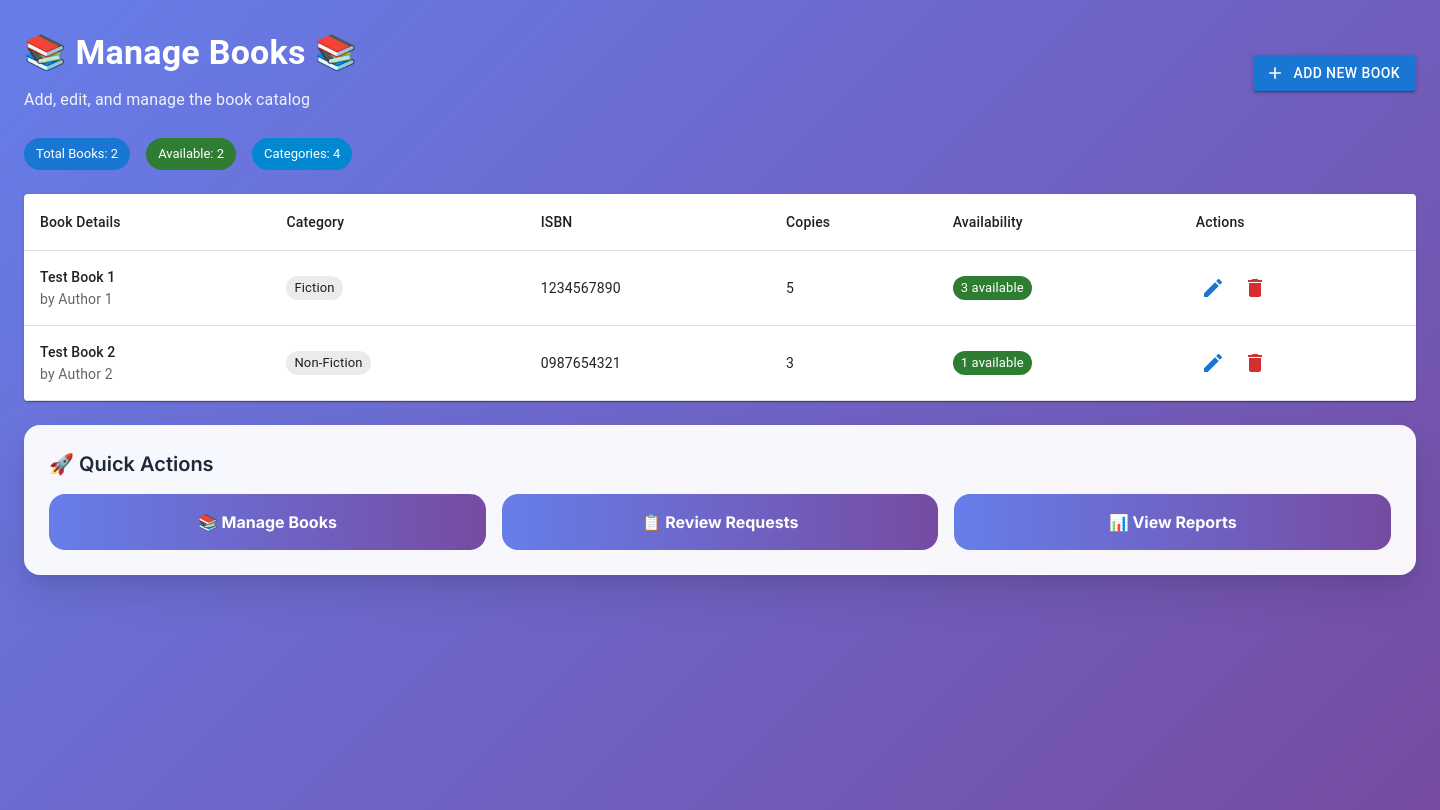
Test: ManageBooks Component › opens add book dialog
// Click the Add New Book button (not the dialog title)
What coordinates should you click on to do the following:
click the button "Add New Book"
I would click on:
 (1335, 73)
Its box is top-left (1253, 55), bottom-right (1416, 91).
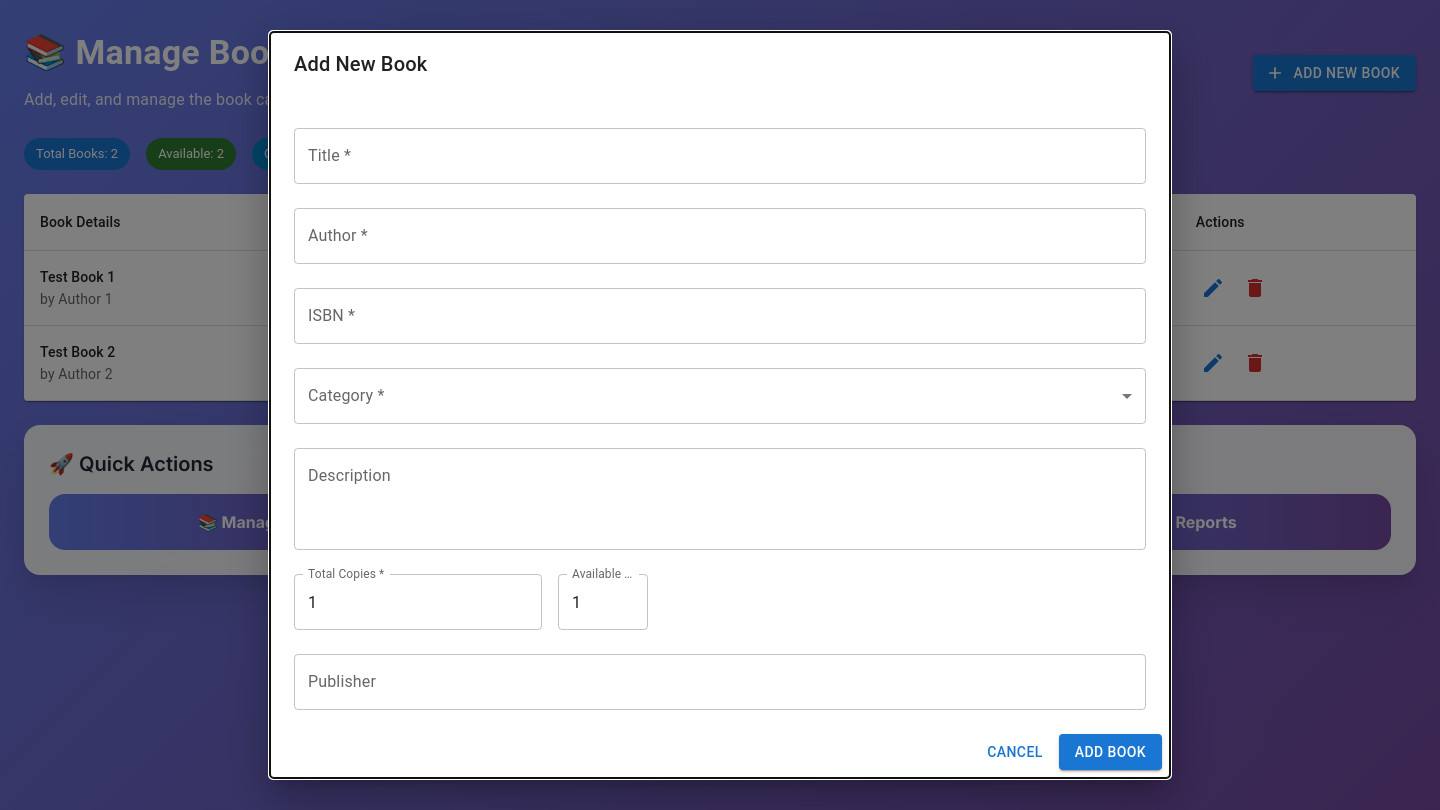
Expected: the dialog is shown, top-left (270, 32), bottom-right (1170, 778)
Expected: the field labelled "Title *" is shown, top-left (294, 128), bottom-right (1146, 184)
Expected: the field labelled "Author *" is shown, top-left (294, 208), bottom-right (1146, 264)
